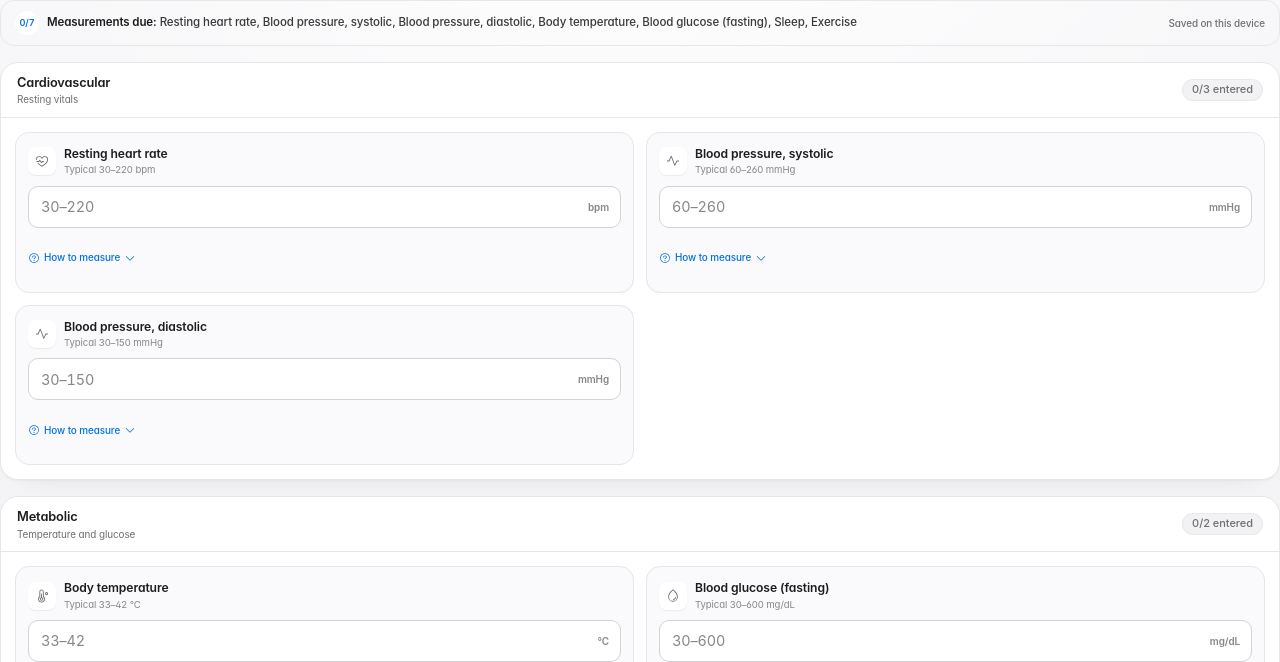
Test: U9: MeasurementForm component › displays urgent callout when reading is in urgent range (e.g. bp_sys 185)
The width and height of the screenshot is (1280, 662).
Type "185" into the number field labelled "Blood pressure, systolic Typical 60–260 mmHg" at point(956, 207), box top-left (659, 186), bottom-right (1252, 228)
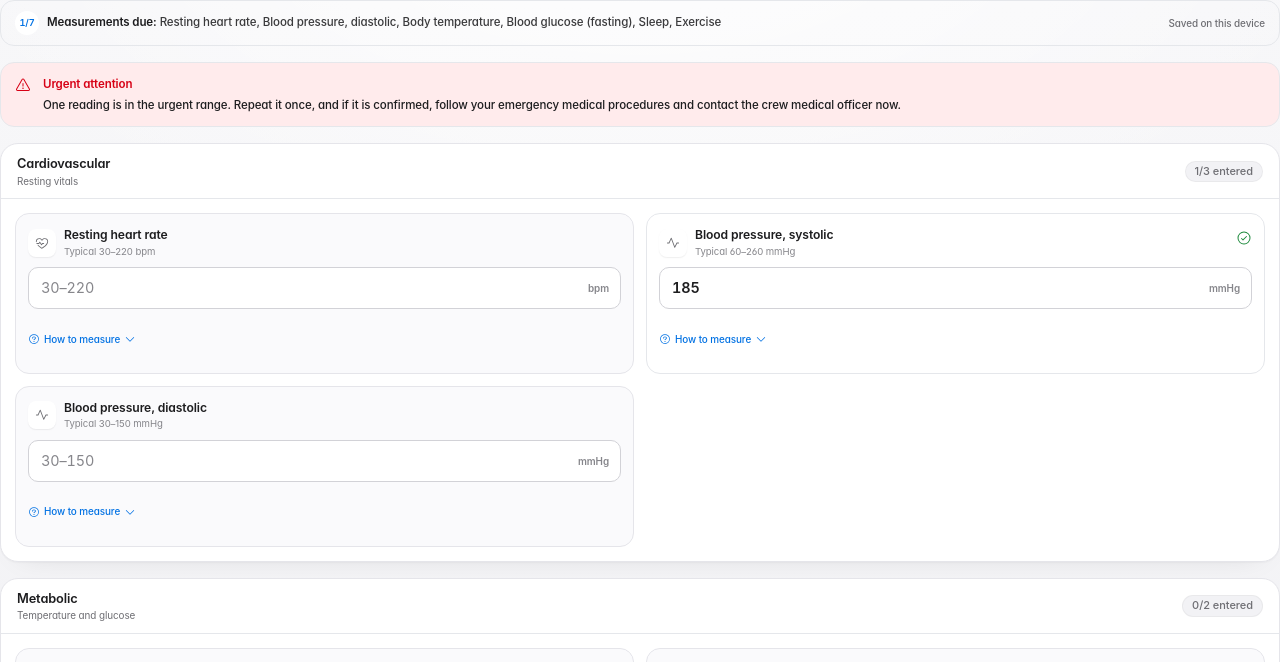
expect the text "One reading is in the urgent range. Repeat it once, and if it is confirmed, follow your emergency medical procedures and" is shown: met, box top-left (43, 98), bottom-right (901, 112)
